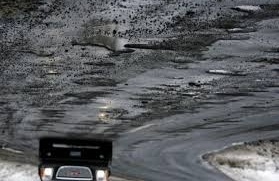pothole: (70, 31, 249, 57), (1, 0, 41, 24), (175, 17, 259, 28), (217, 84, 266, 98), (204, 66, 248, 77), (70, 78, 123, 87), (231, 4, 267, 16), (22, 48, 57, 59), (153, 126, 193, 135), (65, 92, 114, 99), (83, 60, 119, 69), (74, 68, 105, 78), (210, 51, 235, 62), (203, 118, 239, 125), (38, 68, 60, 78), (242, 104, 273, 111), (101, 107, 132, 114), (193, 78, 215, 87), (251, 56, 279, 63), (59, 102, 90, 108), (254, 125, 277, 132), (130, 97, 156, 103), (172, 56, 193, 63), (261, 46, 278, 53), (142, 84, 159, 91), (117, 116, 135, 121), (162, 85, 180, 89), (167, 77, 185, 81), (52, 110, 70, 114), (173, 67, 190, 71)
